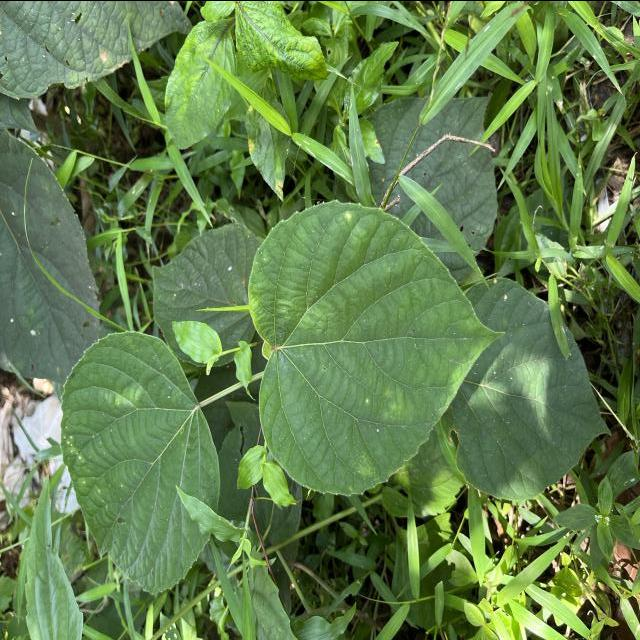Clerodendrum infortunatum: (246, 197, 507, 498), (58, 326, 222, 594), (438, 274, 614, 502)
